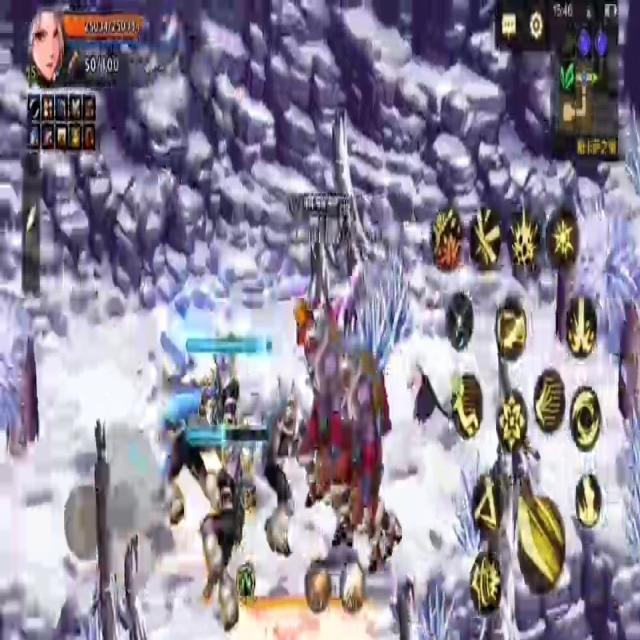player: (291, 286, 349, 387)
